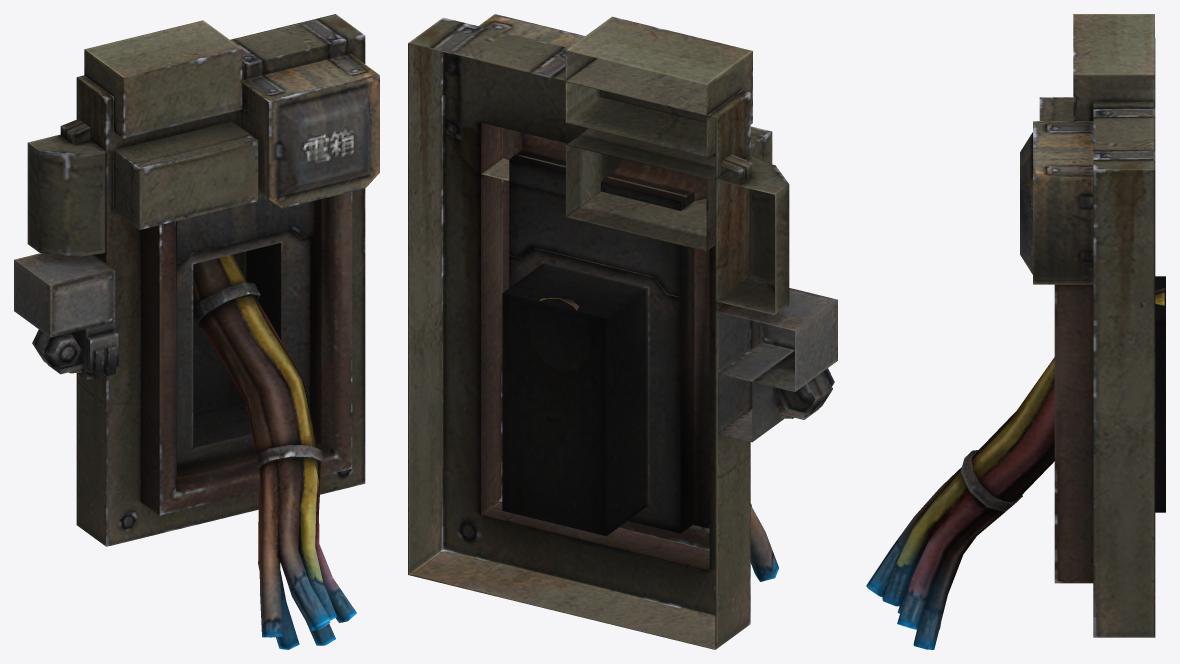
Rendered from glowing_server_cable.DAE.
3 renders of one model, left to right at view 1: azimuth 30°, elevation 25°; view 2: azimuth 150°, elevation 25°; view 3: azimuth 270°, elevation 25°, orthographic. The views are drawn at different scales.
Parts seen in each view (by area): view 1: glowing_server_cable; view 2: glowing_server_cable; view 3: glowing_server_cable.
Boxes of the visible parts, x1,y1,x2,y2 form: glowing_server_cable: (14,14,379,649); glowing_server_cable: (408,14,837,649); glowing_server_cable: (866,14,1165,649).
Size of the model in its own units: 35.4 by 27.02 by 56.74.
